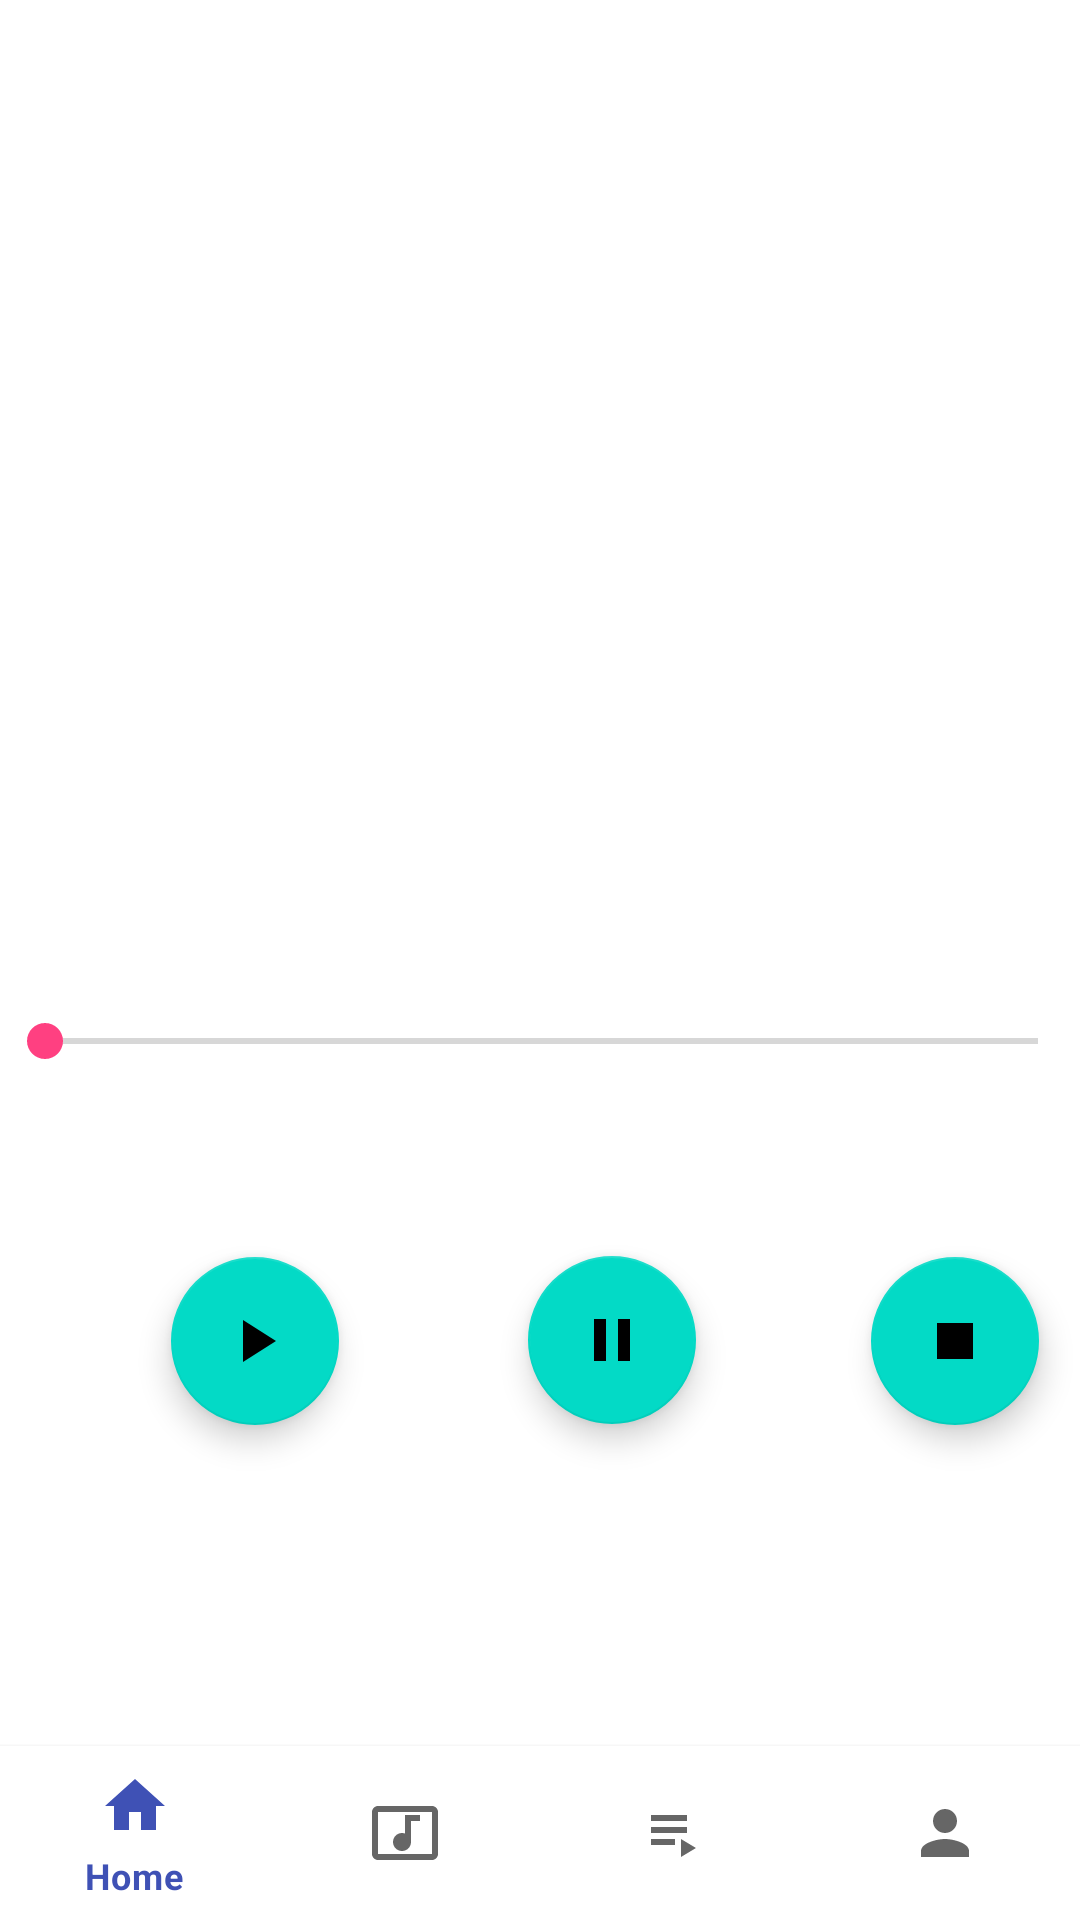

Icon bounding boxes for this 1080×1920 phone screenshot, format BBox(x1, y1, x2, y2):
pause: BBox(528, 1256, 696, 1424)
play arrow: BBox(171, 1257, 339, 1425)
stop: BBox(871, 1257, 1039, 1425)
